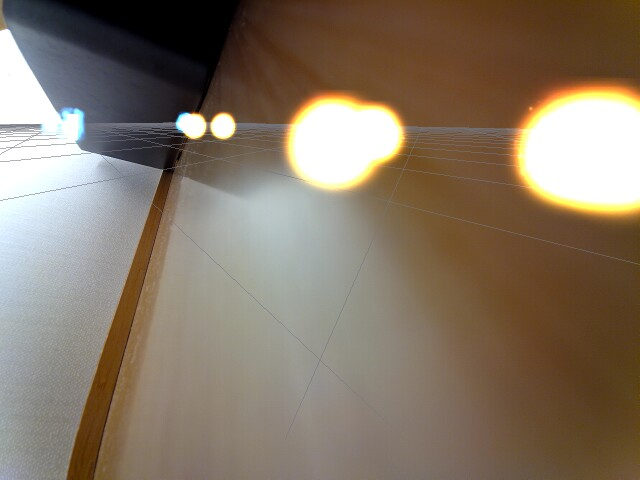firebig: (516, 80, 640, 277)
